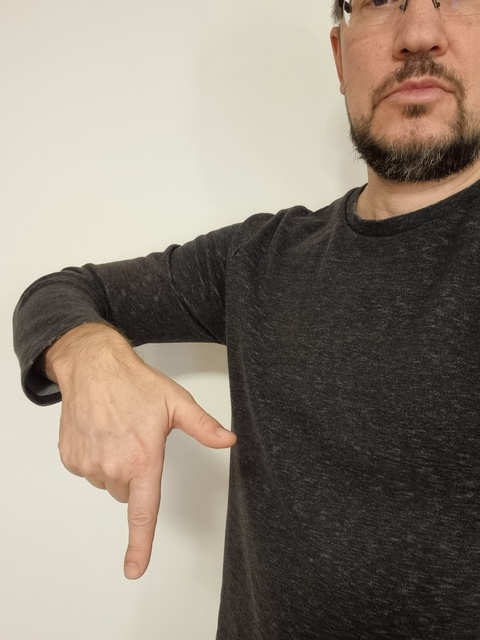GestDown: (58, 392, 238, 580)
